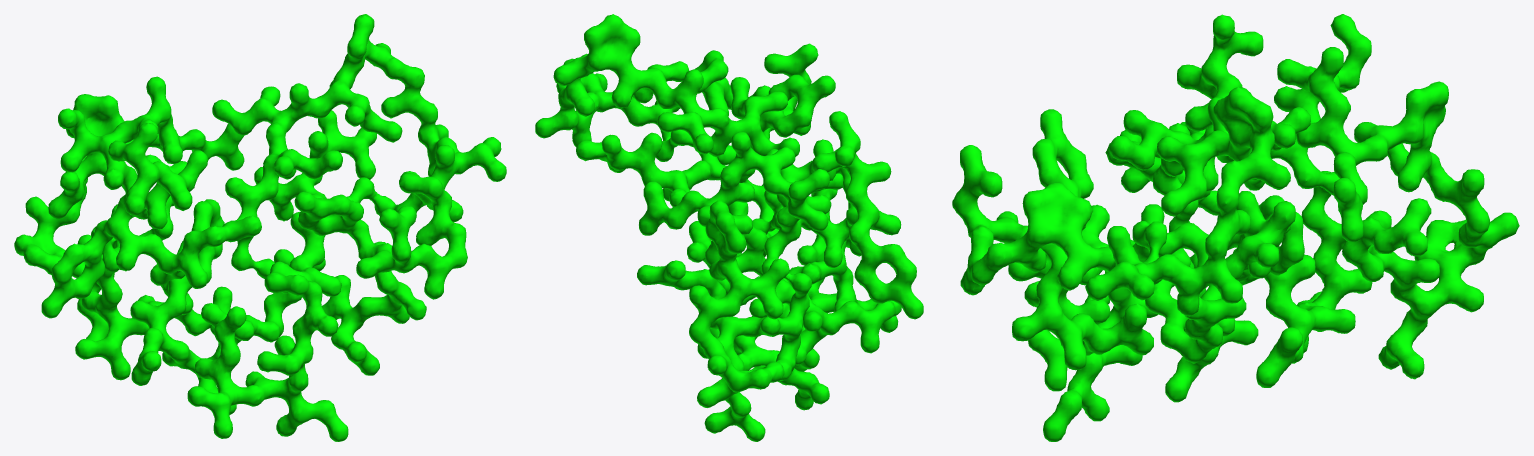
Rendered from prot4.fbx.
The picture shows the model from 3 angles, left to right: view 1: azimuth 30°, elevation 25°; view 2: azimuth 150°, elevation 25°; view 3: azimuth 270°, elevation 25°; orthographic projection. The views are drawn at different scales.
Visible parts, largest first — view 1: Volume_Mesher_1; view 2: Volume_Mesher_1; view 3: Volume_Mesher_1.
Boxes of the visible parts, x1,y1,x2,y2 form: Volume_Mesher_1: (14, 14, 506, 441); Volume_Mesher_1: (535, 14, 923, 441); Volume_Mesher_1: (952, 14, 1519, 441).
Bounding box in the file's own units: 28.51 × 22.67 × 28.22.
